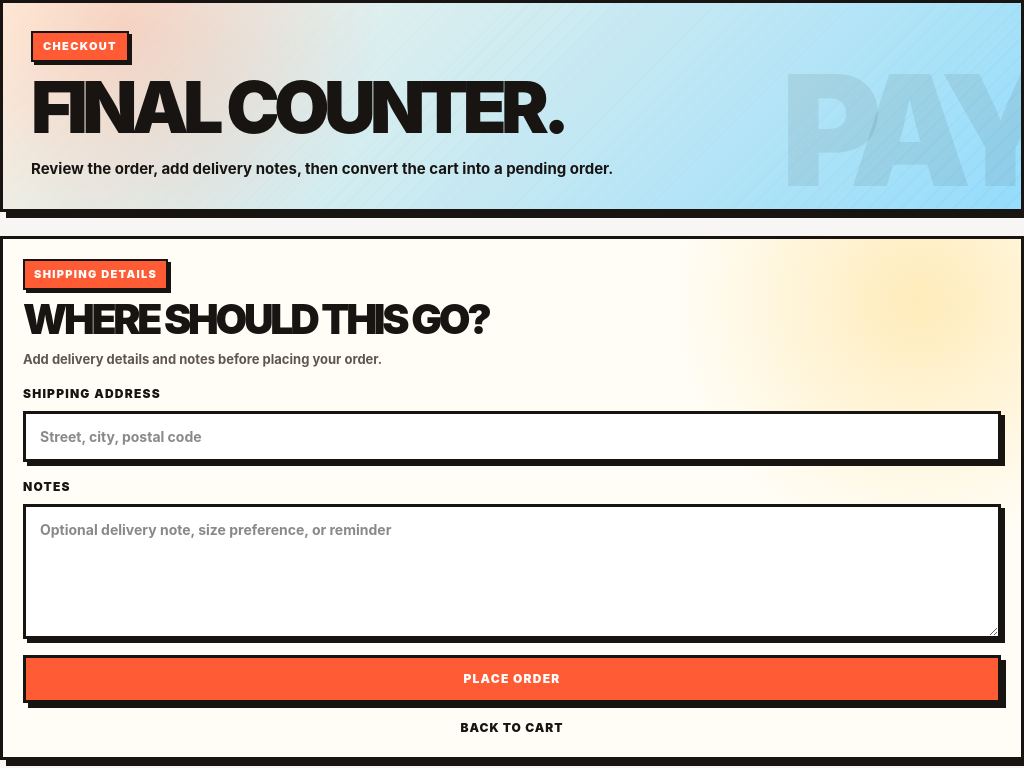
Test: customer browsing, cart, and checkout flow › shows checkout shipping form and validates missing shipping address
Expected: the heading "Where should this go?" is shown, [23,294,489,344]
Click the button "Place order" at (512, 679), box [23,655,1001,703]
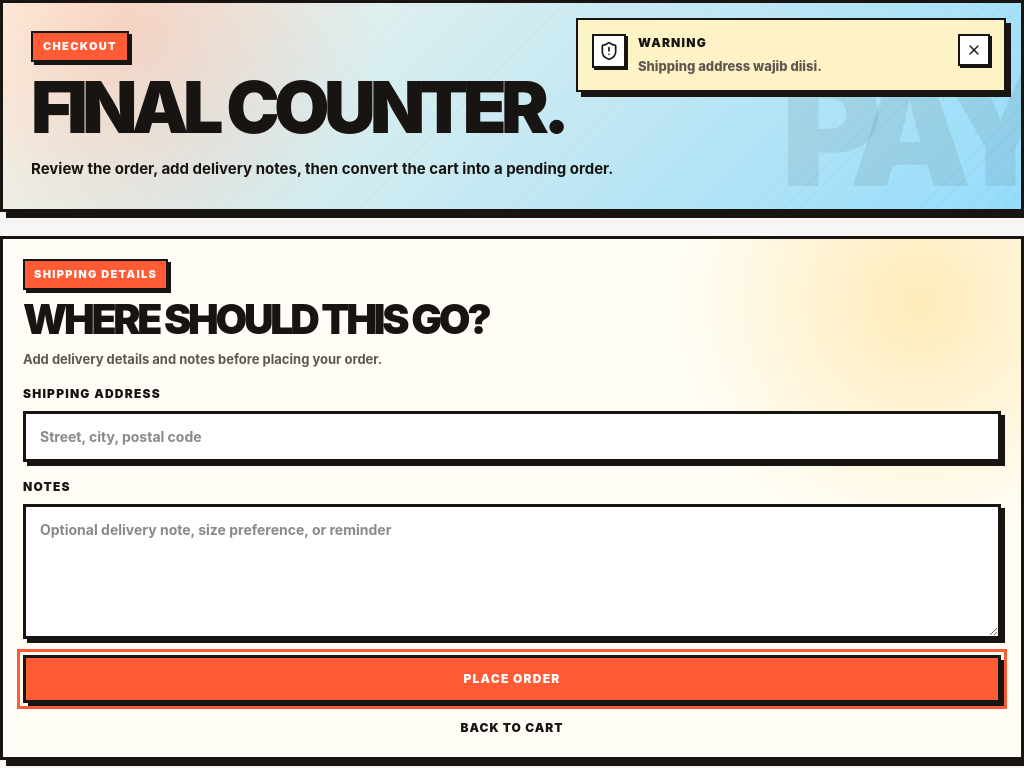
Expected: the text "Shipping address wajib diisi." is shown, [638,58,822,74]
